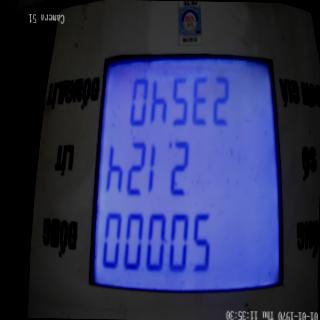screen: (85, 45, 290, 312)
